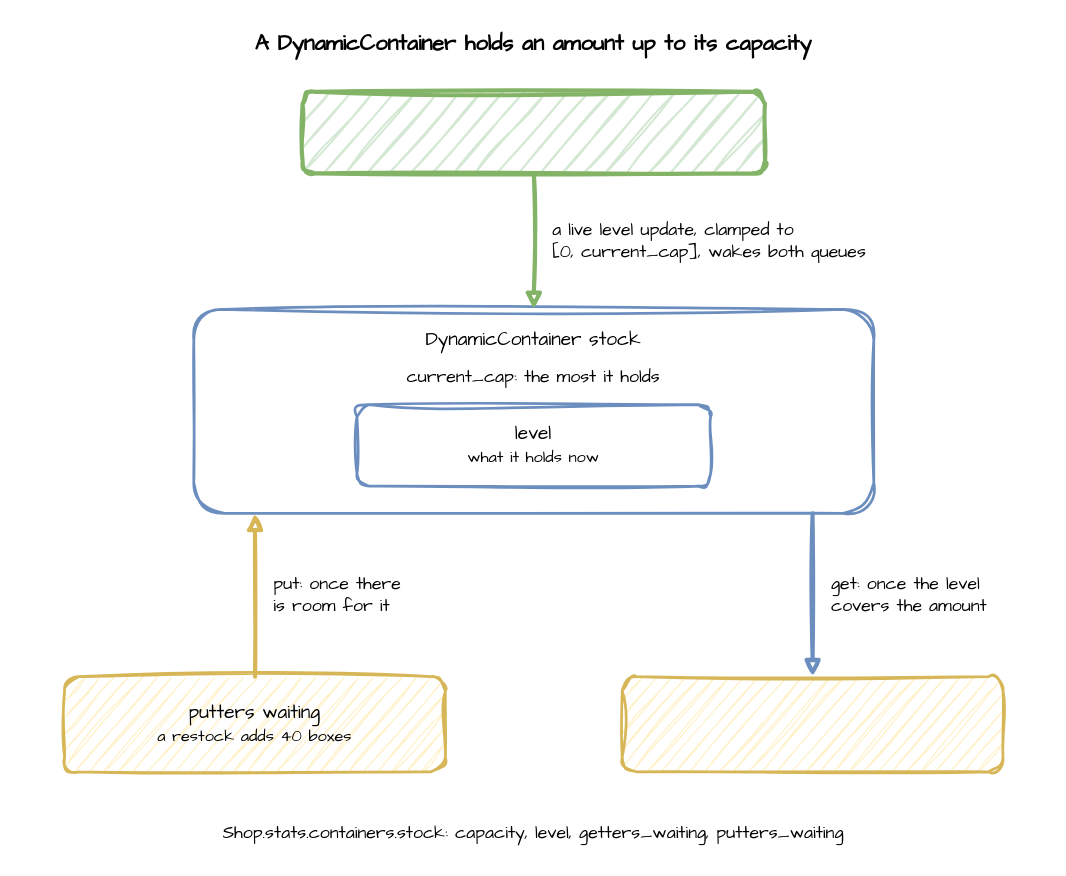
This 1066x876 diagram has some shape labels left out. Here are the shapes that lost their labels. From the top down, the centre of each, then its label:
pixel 533 132: registry Shop.containers.stock.level, .current_cap
pixel 812 723: getters waiting pack_order wants 1 box
